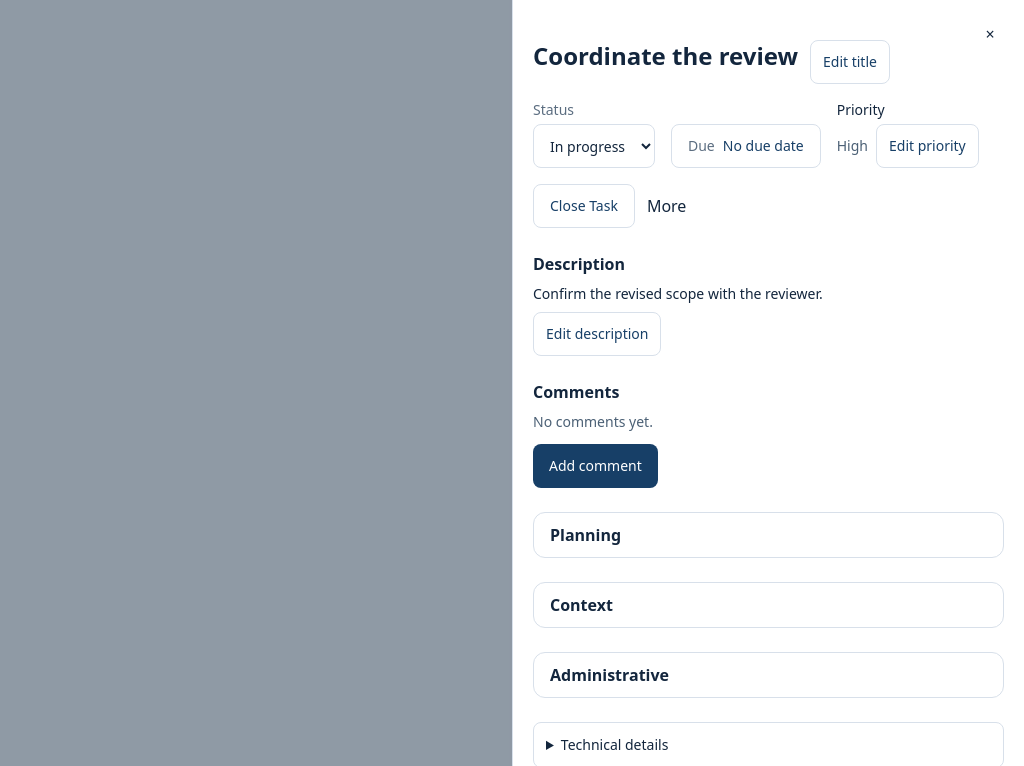
Test: TaskCompactSheet › keeps raw identifiers out of the compact Task view until diagnostics are opened
The width and height of the screenshot is (1024, 766).
Check: the element with test id "task-status-control" is shown, box 533,100 -> 655,168
Check: the element with test id "task-compact-sheet" does not show "tsk_aaaaaaaa11111111"
Click the heading "Technical details". click: [615, 744]
box: 561,735 -> 668,754
(page scrolled)
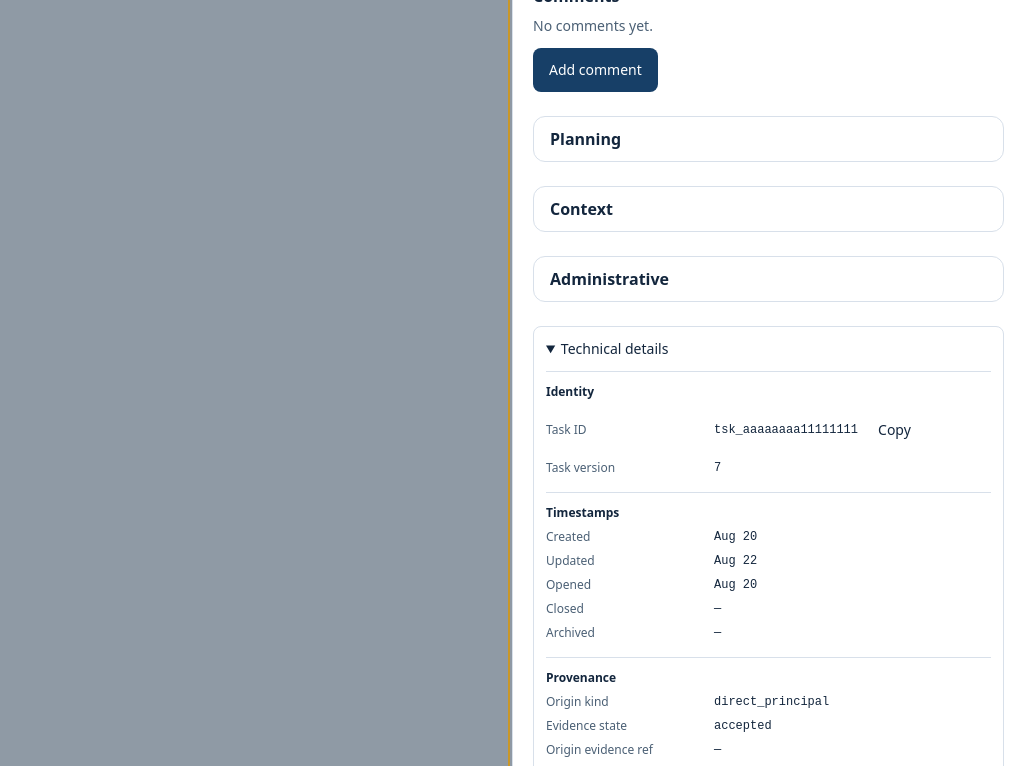
Check: the element with test id "task-compact-sheet" shows "tsk_aaaaaaaa11111111", box 714,423 -> 858,437
